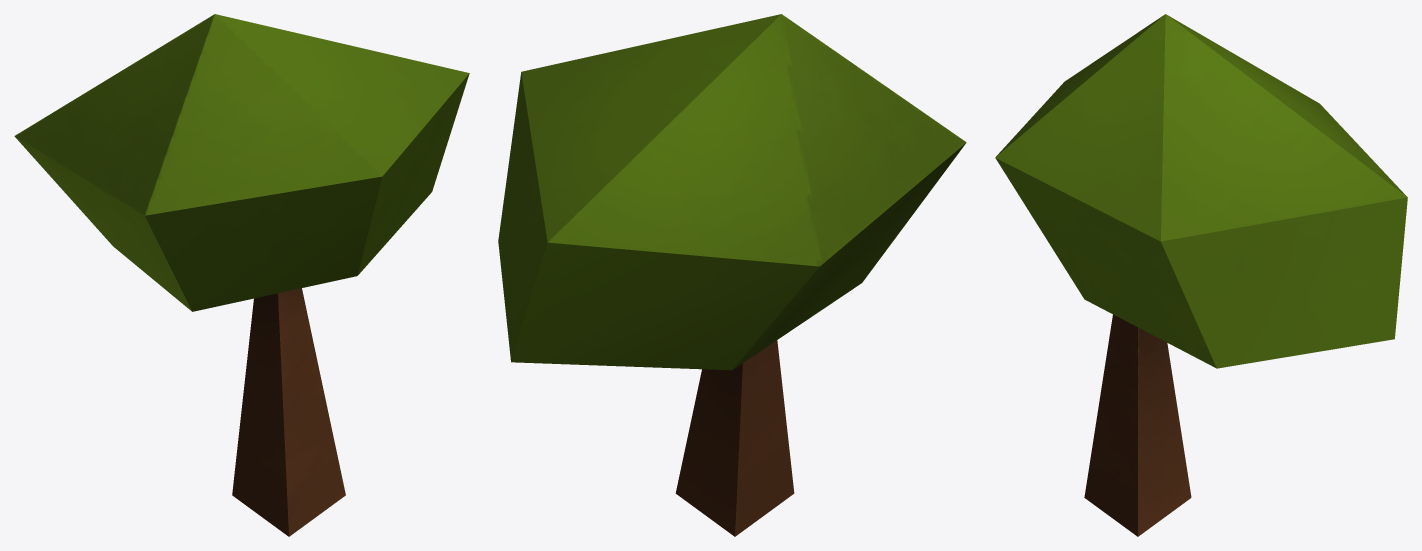
The model's file is Leave_tree_C2_03.FBX.
3 renders of one model, left to right at view 1: azimuth 30°, elevation 25°; view 2: azimuth 150°, elevation 25°; view 3: azimuth 270°, elevation 25°, orthographic. The views are drawn at different scales.
Parts seen in each view (by area): view 1: Leave_tree_C2_03; view 2: Leave_tree_C2_03; view 3: Leave_tree_C2_03.
Part boxes in pixels (<box>): Leave_tree_C2_03: <box>14,14,469,536</box>; Leave_tree_C2_03: <box>498,14,966,536</box>; Leave_tree_C2_03: <box>995,14,1407,536</box>.
Bounding box in the file's own units: 25.01 × 25.27 × 31.72.
